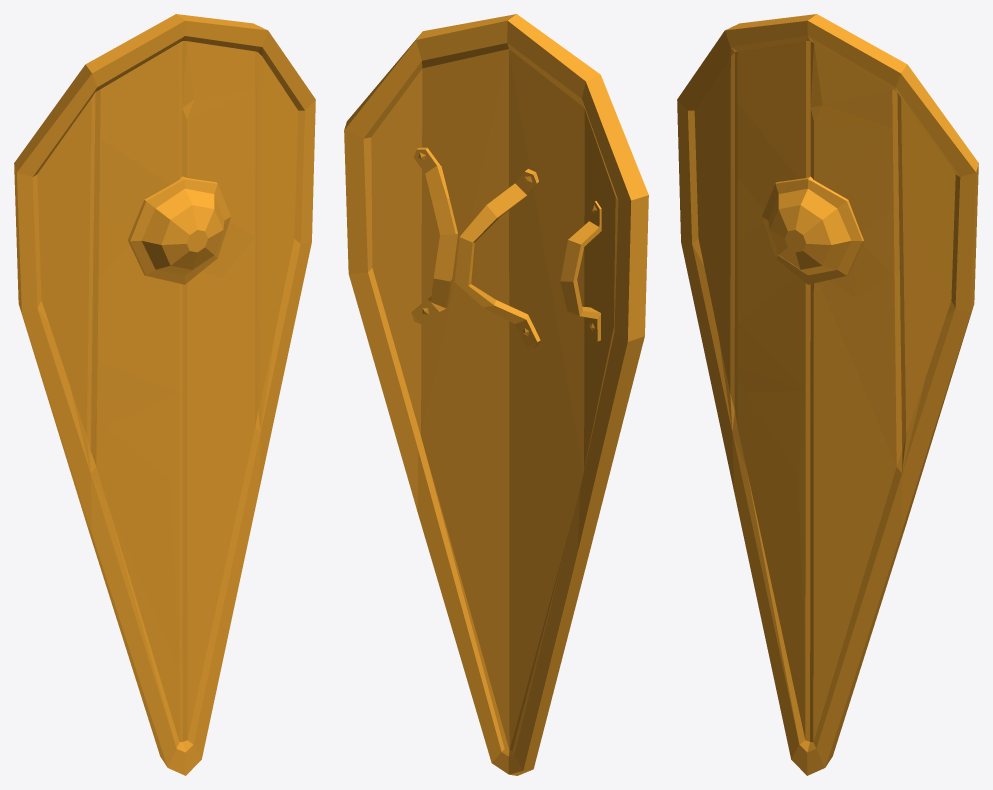
The model's file is SM_Shield_Kite_Boss_C.fbx.
The picture shows the model from 3 angles, left to right: view 1: azimuth 30°, elevation 25°; view 2: azimuth 150°, elevation 25°; view 3: azimuth 330°, elevation 25°; orthographic projection.
Visible parts, largest first — view 1: shield-kite-boss-c; view 2: shield-kite-boss-c; view 3: shield-kite-boss-c.
Boxes of the visible parts, bbox=[...] form: shield-kite-boss-c: bbox=[14, 14, 315, 775]; shield-kite-boss-c: bbox=[344, 14, 648, 775]; shield-kite-boss-c: bbox=[677, 14, 978, 775].
Bounding box in the file's own units: 0.6127 × 1.48 × 0.1888.
